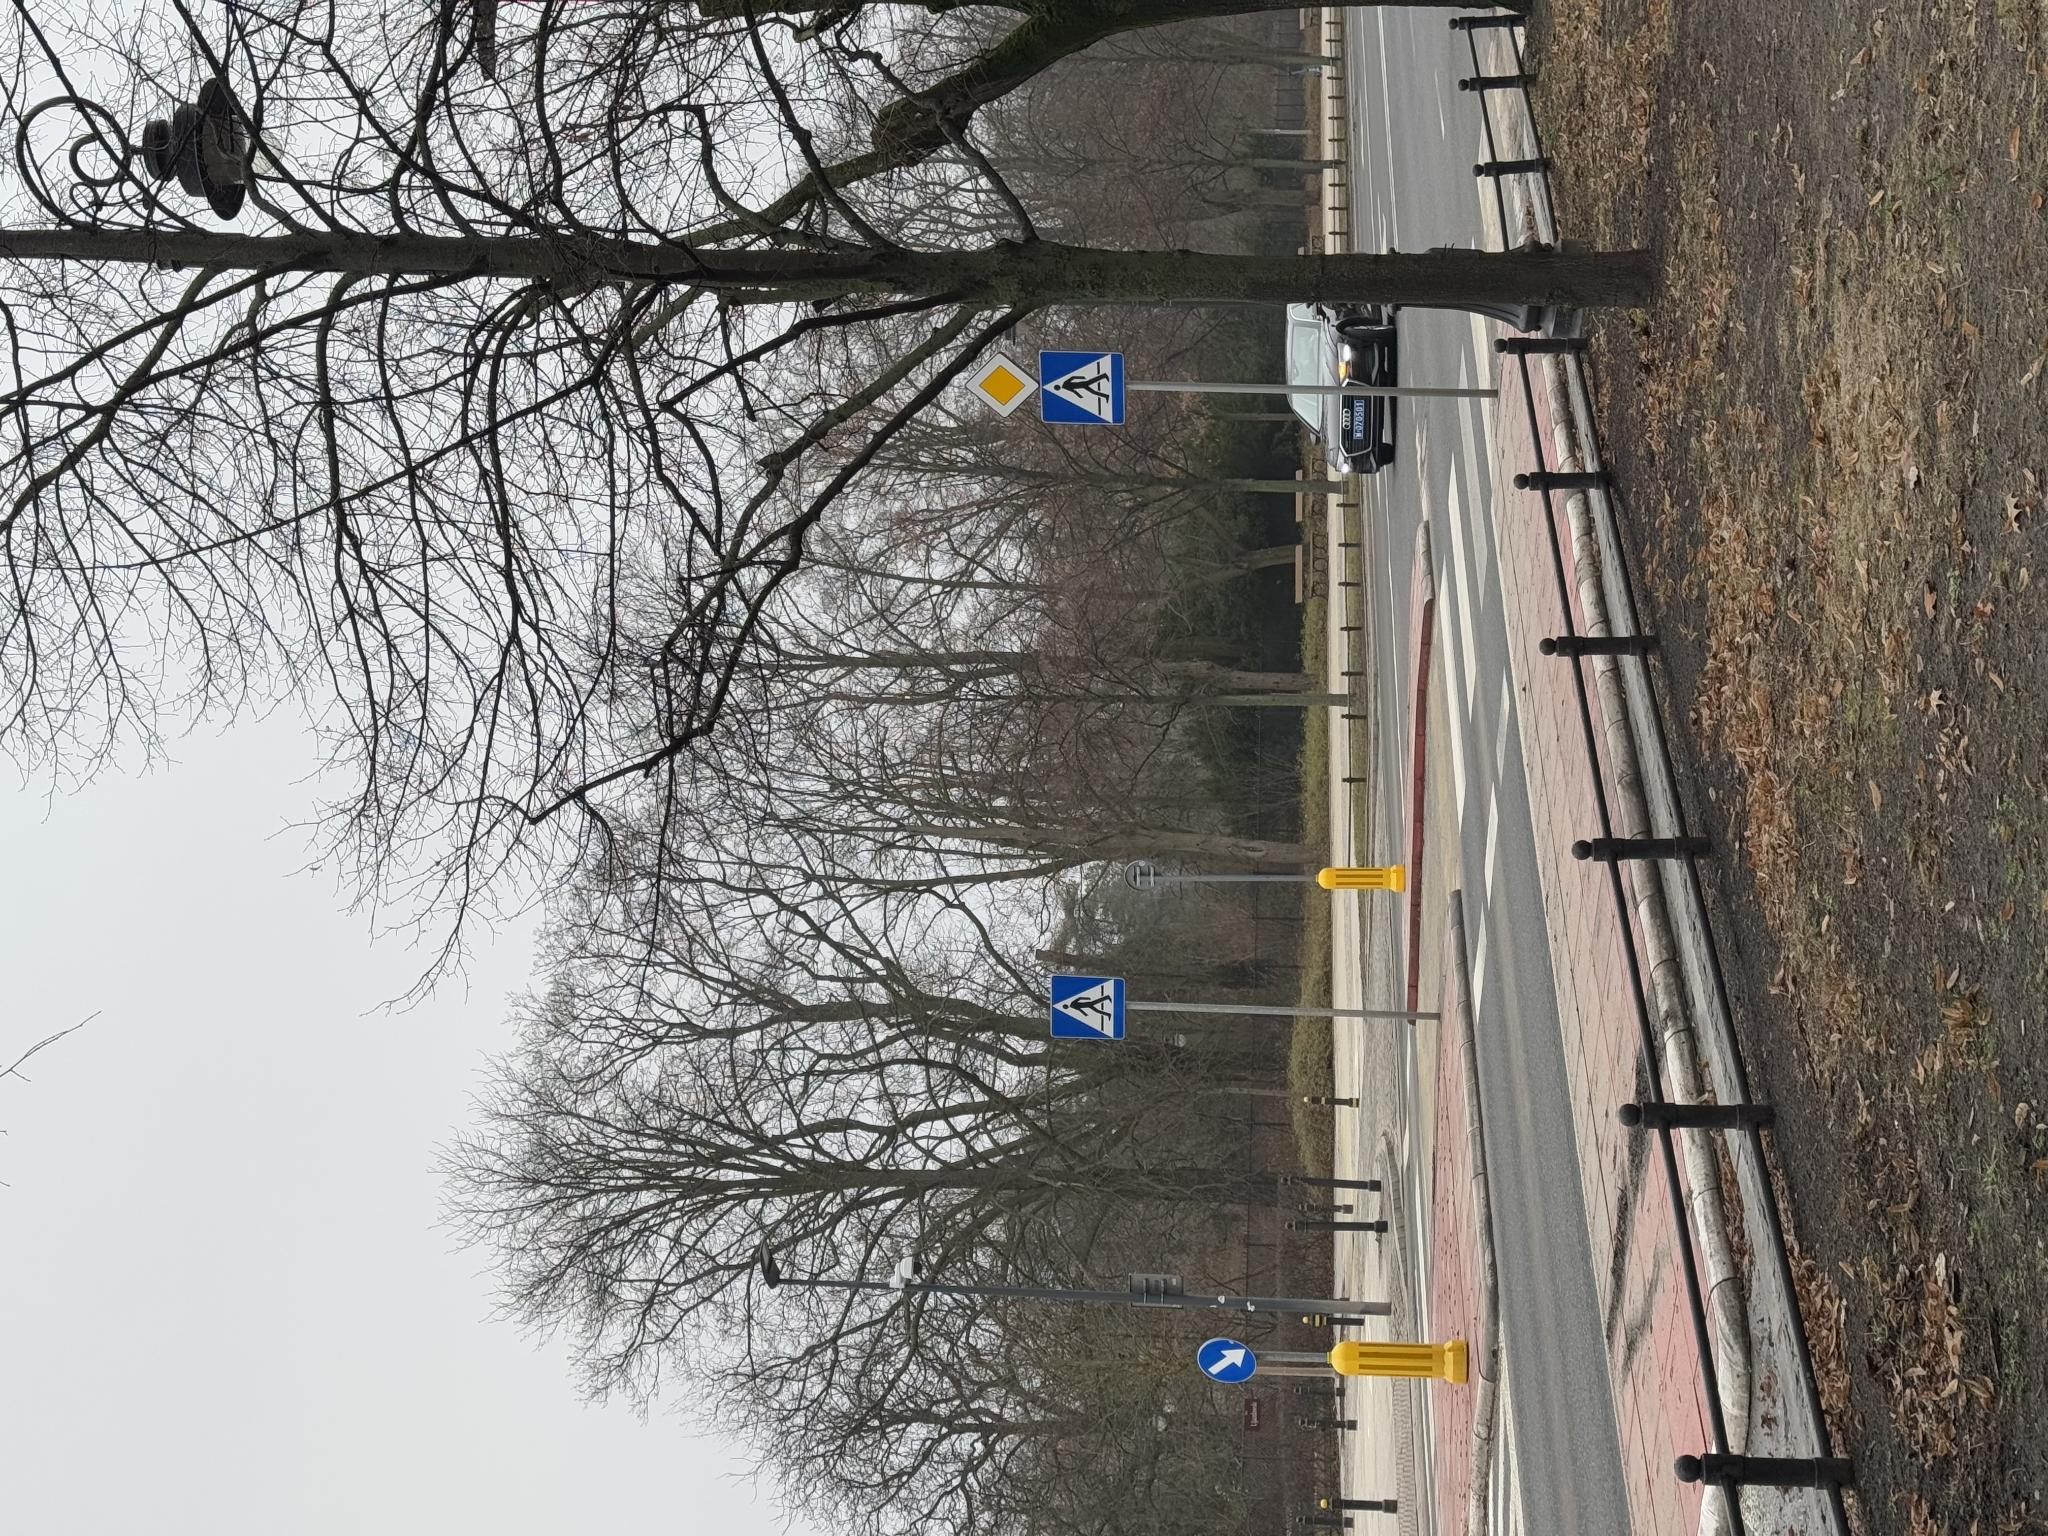information: (1109, 1037, 1184, 1125), (1114, 965, 1185, 1041), (495, 1049, 563, 1125)
mandatory: (152, 1197, 200, 1257)
